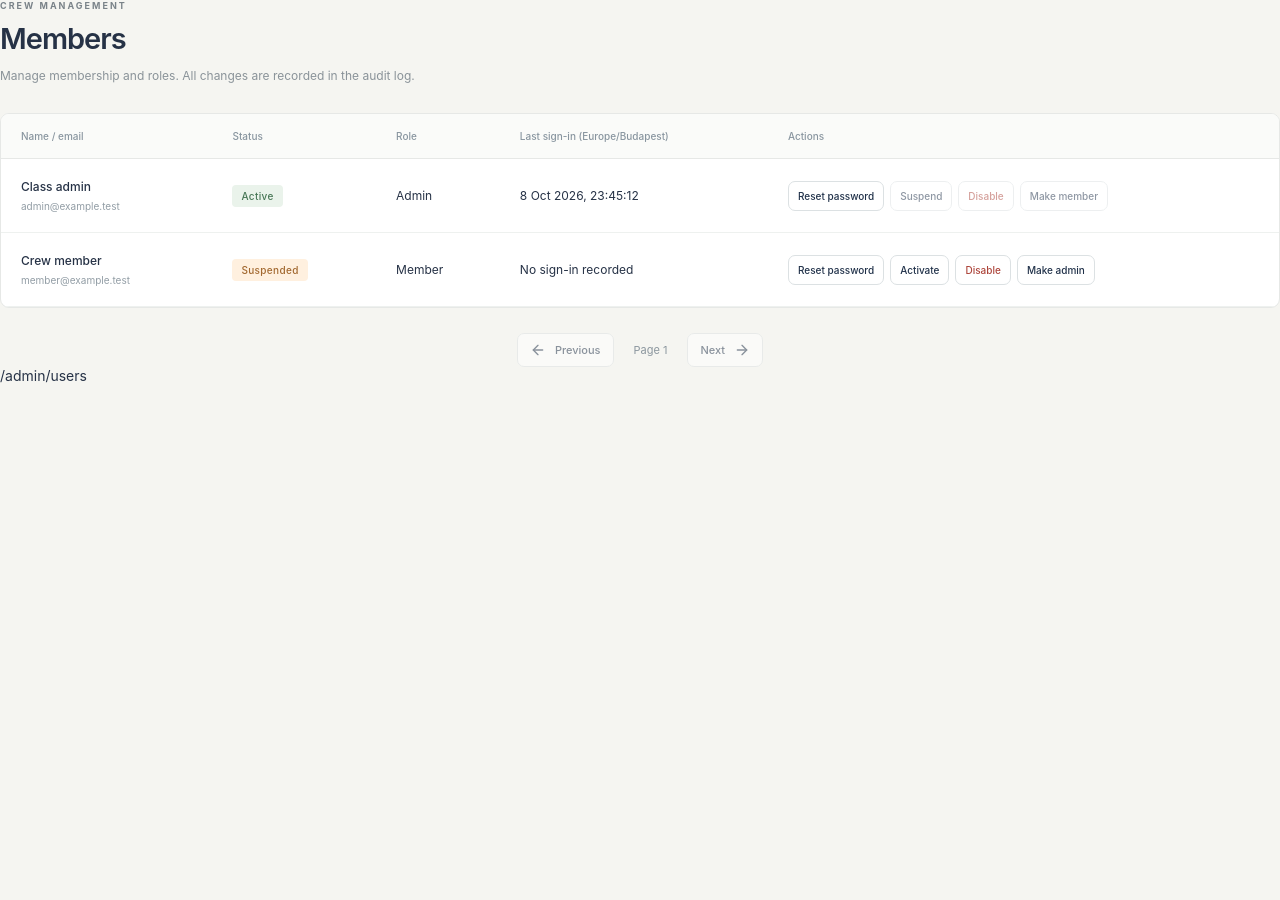
Admin member credentials and sign-in history › does not submit invalid passwords (too-short)
Click the button "Reset password" in the row of "Crew member".
click(836, 270)  # box [788,255,884,285]
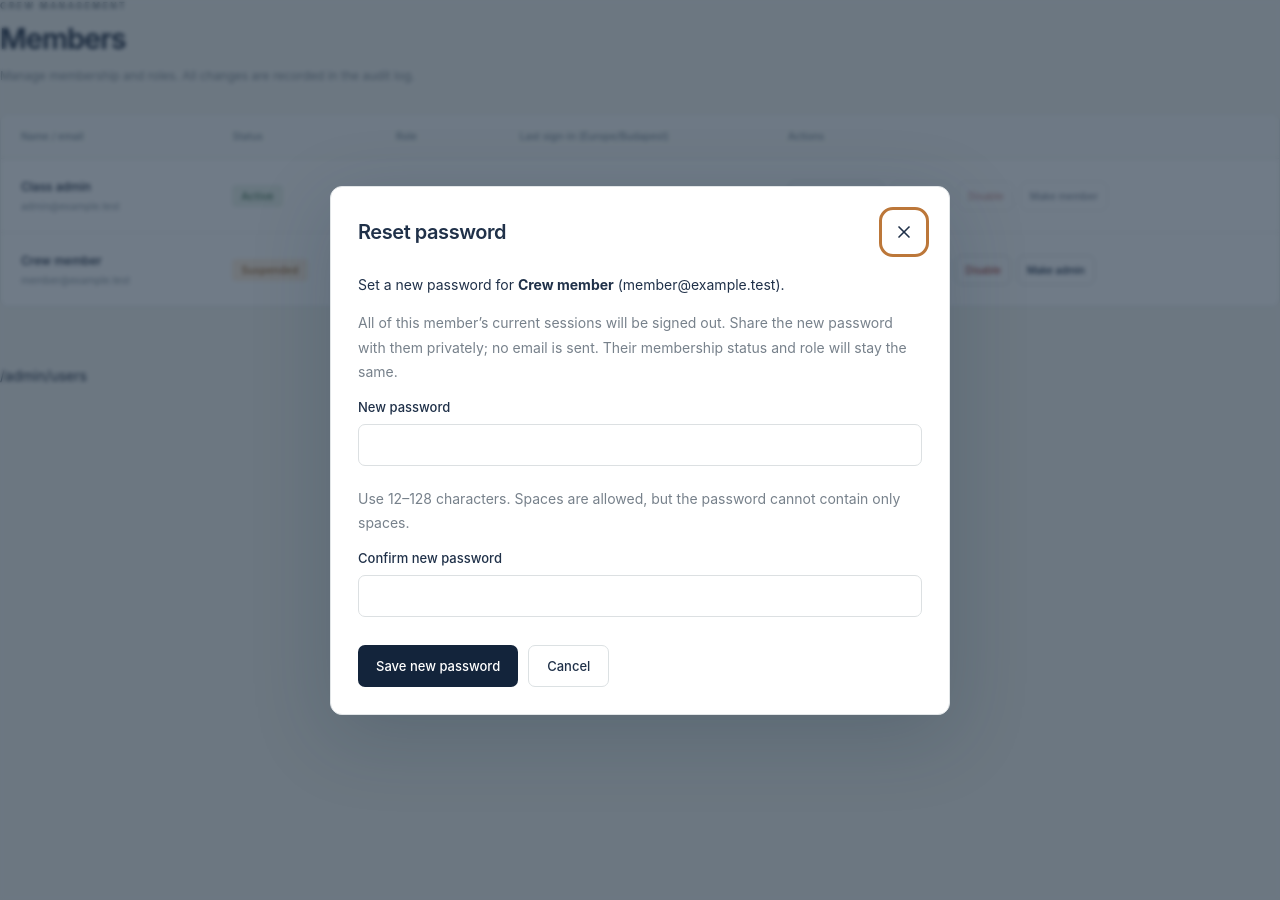
Type "too-short" into the password field labelled "New password".
click(640, 444); type("too-short")  # box [358,424,922,466]
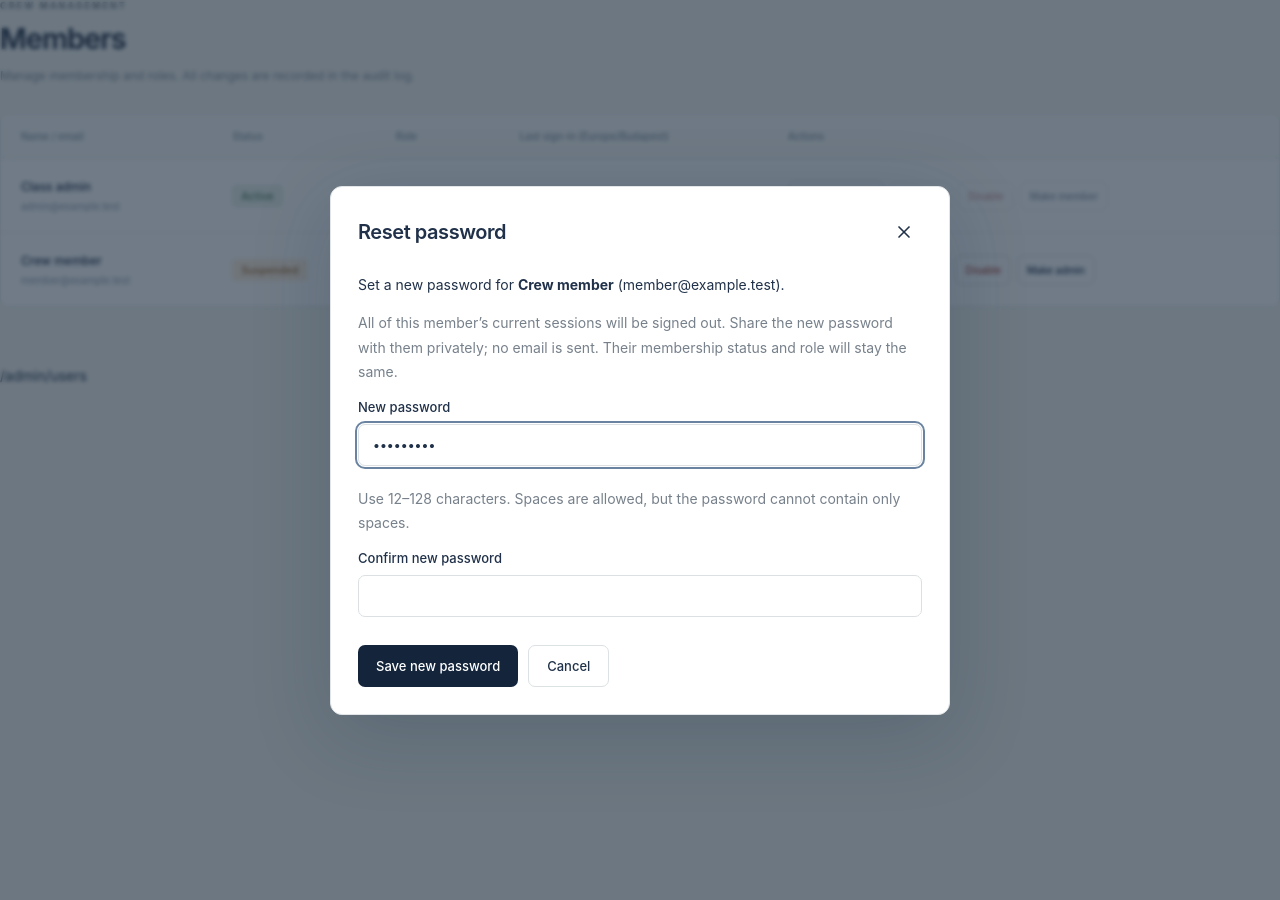
Type "too-short" into the password field labelled "Confirm new password".
click(640, 596); type("too-short")  # box [358,574,922,616]
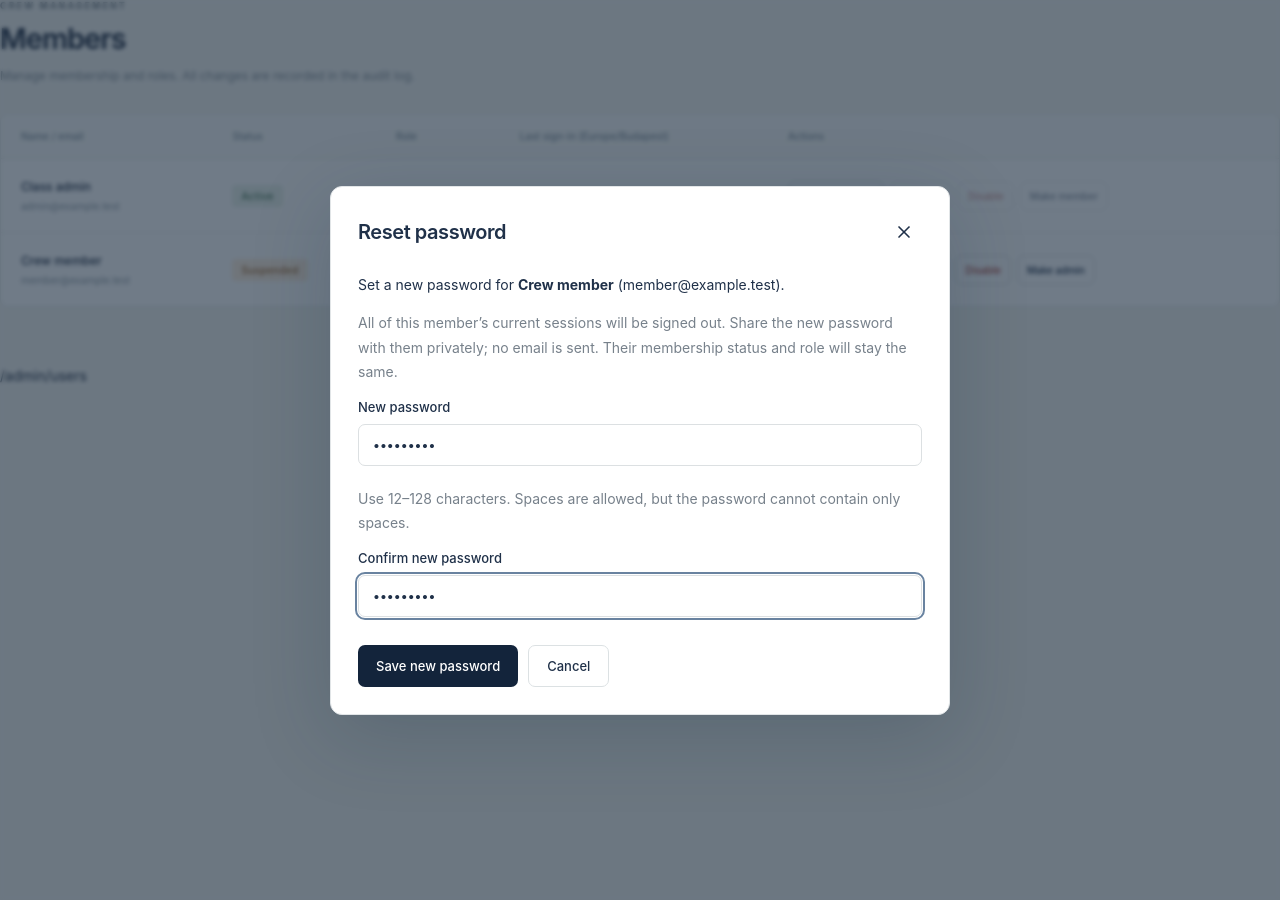
Click the button "Save new password".
click(438, 666)  # box [358,644,518,686]
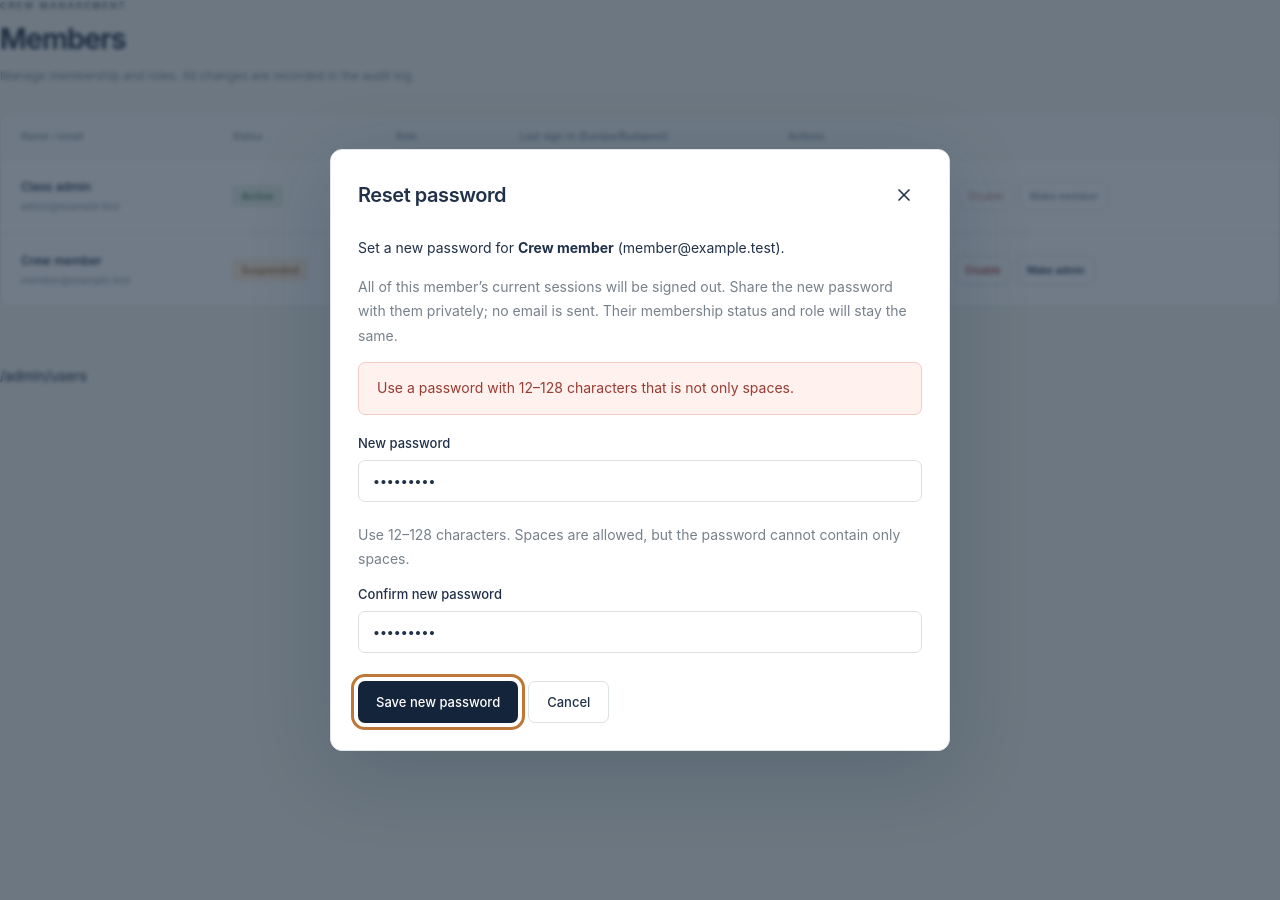
Now the message reads "Use a password with 12–128 characters that is not only spaces.", box [377,379,794,396]
